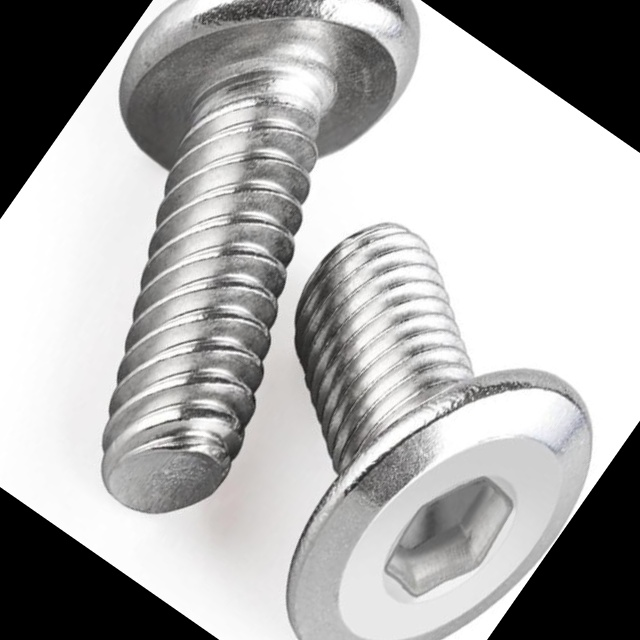allen: (373, 451, 529, 622)
